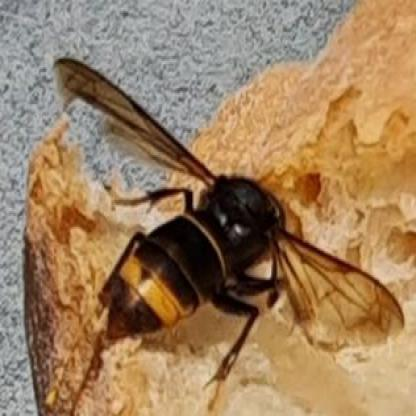Asian Hornet: (52, 52, 405, 350)
